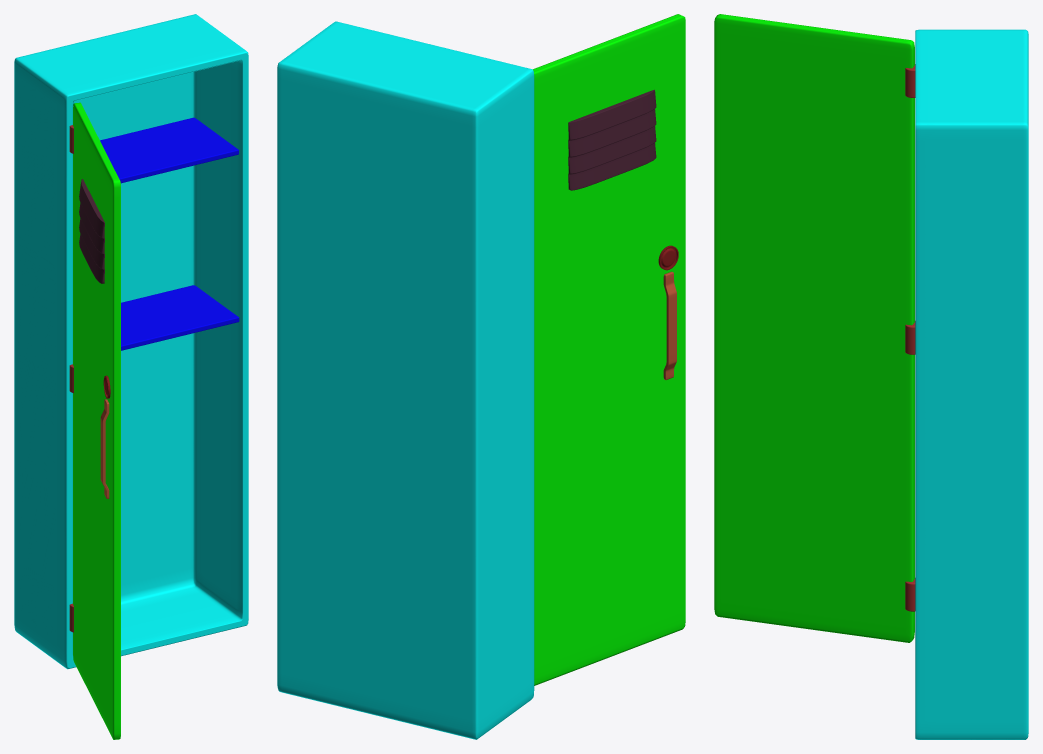
The model's file is Locker_Opened.fbx.
3 renders of one model, left to right at view 1: azimuth 30°, elevation 25°; view 2: azimuth 150°, elevation 25°; view 3: azimuth 270°, elevation 25°, orthographic. The views are drawn at different scales.
Parts seen in each view (by area): view 1: Locker_Cabinet1, Locker_Door, Locker_Level01, Locker_Level02, Locker_Vent, Locker_Lever; view 2: Locker_Cabinet1, Locker_Door, Locker_Vent, Locker_Lever; view 3: Locker_Door, Locker_Cabinet1.
Part boxes in pixels (x1,y1,x2,y2): Locker_Cabinet1: (14, 14, 248, 669); Locker_Door: (73, 102, 120, 739); Locker_Level01: (100, 117, 238, 183); Locker_Level02: (121, 285, 239, 350); Locker_Vent: (79, 179, 104, 283); Locker_Lever: (100, 399, 109, 498); Locker_Cabinet1: (277, 21, 534, 739); Locker_Door: (533, 14, 685, 685); Locker_Vent: (568, 89, 656, 190); Locker_Lever: (663, 271, 676, 379); Locker_Door: (714, 14, 914, 642); Locker_Cabinet1: (915, 29, 1028, 739).
Size of the model in its own units: 2.51 by 6 by 2.78.
